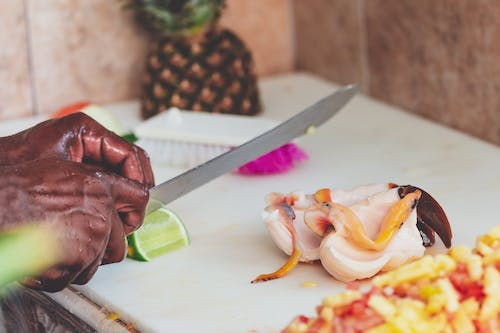knife: (142, 80, 363, 220)
